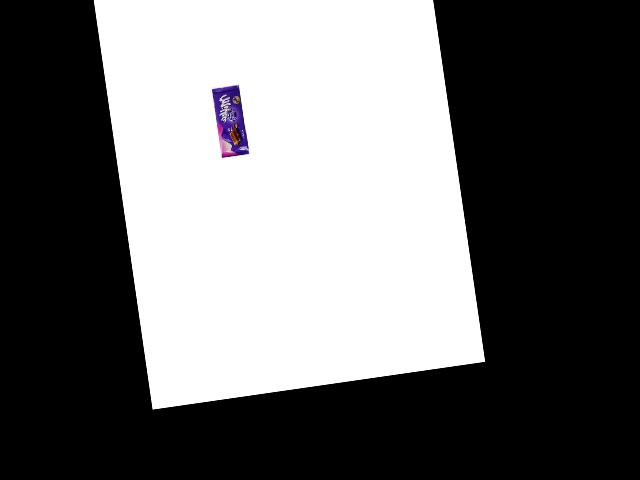chocolate: (211, 84, 250, 157)
